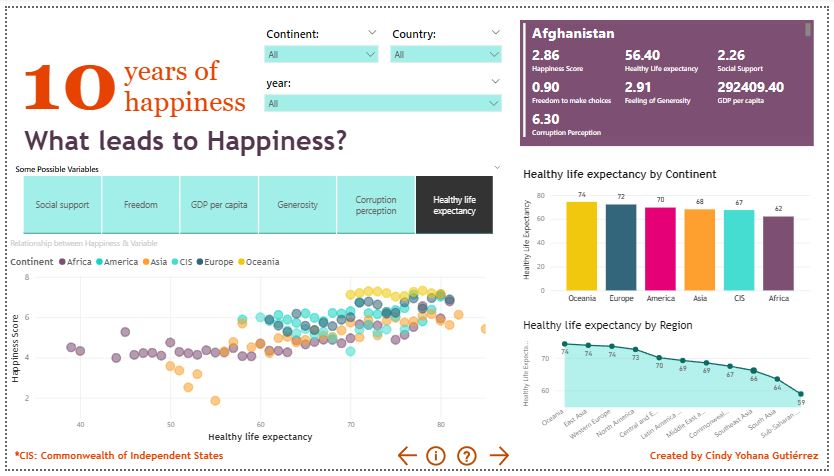

The page's visual inventory and layout, read from the dashboard file:
{"tool":"powerbi","page":{"name":"Explorative","canvas":[1280,720],"ordinal":1},"visuals":[{"type":"group","id":"g1","title":"Group 3","box":[1.3,35.6,631.8,220.7],"z":0},{"type":"slicer","fields":{"Values":["Dim_Country.Country"]},"box":[588.9,24.1,194.4,74.1],"z":1000},{"type":"multiRowCard","fields":{"Values":["Fact_Happiness.Country","Avg(Fact_Happiness.Happiness score)","Avg(Fact_Happiness.Healthy life expectancy)","Avg(Fact_Happiness.Social support)","Avg(Fact_Happiness.Freedom)","Avg(Fact_Happiness.Generosity)","Avg(Fact_Happiness.GDP per capita)","Avg(Fact_Happiness.Corruption perception)"]},"box":[800.9,18.3,458.7,197.2],"z":2000},{"type":"slicer","fields":{"Values":["Dim_Country.Continent"]},"box":[392.6,24.1,198.1,75.9],"z":3000},{"type":"textbox","box":[1.3,35.6,177.8,157.4],"z":3000,"group":"g2"},{"type":"textbox","box":[21.1,175.6,612,80.6],"z":3000,"group":"g3"},{"type":"textbox","box":[178.6,67.8,205.6,118.5],"z":4000,"group":"g2"},{"type":"scatterChart","title":"Relationship between Happiness & Variable","fields":{"X":["Fact_Happiness.Healthy life expectancy"],"Series":["Dim_Country.Continent"],"Y":["Avg(Fact_Happiness.Happiness score)"]},"box":[0,360,758.9,324],"z":4000},{"type":"slicer","fields":{"Values":["Variables.Variables"]},"box":[0,237.6,783.4,122.4],"z":5000},{"type":"columnChart","title":"Healthy life expectancy by Continent","fields":{"Category":["Dim_Country.Continent"],"Y":["Avg(Fact_Happiness.Healthy life expectancy)"]},"box":[800.9,250.5,458.7,219.3],"z":6000},{"type":"stackedAreaChart","title":"Healthy life expectancy by Region","fields":{"Category":["Dim_Country.Regional indicator"],"Y":["Avg(Fact_Happiness.Healthy life expectancy)"]},"box":[800.9,485.3,458.7,199.1],"z":7000},{"type":"textbox","box":[992.2,684,288,36],"z":8000},{"type":"textbox","box":[2.9,684,344.2,36],"z":9000},{"type":"actionButton","box":[606.2,679.7,43.2,40.3],"z":10000},{"type":"actionButton","box":[748.8,679.7,51.8,40.3],"z":11000},{"type":"group","id":"g2","title":"Group 1","box":[1.3,35.6,382.9,157.4],"z":12000,"group":"g3"},{"type":"slicer","fields":{"Values":["Fact_Happiness.Year"]},"box":[392.6,100,390.7,75.9],"z":12000},{"type":"group","id":"g3","title":"Group 2","box":[1.3,35.6,631.8,220.7],"z":12001,"group":"g1"},{"type":"actionButton","box":[698.4,679.7,50.4,40.3],"z":13000},{"type":"actionButton","box":[649.4,679.7,49,40.3],"z":14000}]}

Visuals, with their boxes in screenshot pixels (x1, y1, x2, y2), scaled from the page's 1280x720 canvas onto the 834x476 screenshot:
"Group 3" group: {"x1": 1, "y1": 24, "x2": 413, "y2": 169}
slicer - Dim_Country.Country: {"x1": 384, "y1": 16, "x2": 510, "y2": 65}
multiRowCard - Fact_Happiness.Country x Avg(Fact_Happiness.Happiness score): {"x1": 522, "y1": 12, "x2": 821, "y2": 142}
slicer - Dim_Country.Continent: {"x1": 256, "y1": 16, "x2": 385, "y2": 66}
textbox: {"x1": 1, "y1": 24, "x2": 117, "y2": 128}
textbox: {"x1": 14, "y1": 116, "x2": 413, "y2": 169}
textbox: {"x1": 116, "y1": 45, "x2": 250, "y2": 123}
"Relationship between Happiness & Variable" scatterChart: {"x1": 0, "y1": 238, "x2": 494, "y2": 452}
slicer - Variables.Variables: {"x1": 0, "y1": 157, "x2": 510, "y2": 238}
"Healthy life expectancy by Continent" columnChart: {"x1": 522, "y1": 166, "x2": 821, "y2": 311}
"Healthy life expectancy by Region" stackedAreaChart: {"x1": 522, "y1": 321, "x2": 821, "y2": 452}
textbox: {"x1": 646, "y1": 452, "x2": 833, "y2": 475}
textbox: {"x1": 2, "y1": 452, "x2": 226, "y2": 475}
actionButton: {"x1": 395, "y1": 449, "x2": 423, "y2": 475}
actionButton: {"x1": 488, "y1": 449, "x2": 522, "y2": 475}
"Group 1" group: {"x1": 1, "y1": 24, "x2": 250, "y2": 128}
slicer - Fact_Happiness.Year: {"x1": 256, "y1": 66, "x2": 510, "y2": 116}
"Group 2" group: {"x1": 1, "y1": 24, "x2": 413, "y2": 169}
actionButton: {"x1": 455, "y1": 449, "x2": 488, "y2": 475}
actionButton: {"x1": 423, "y1": 449, "x2": 455, "y2": 475}
